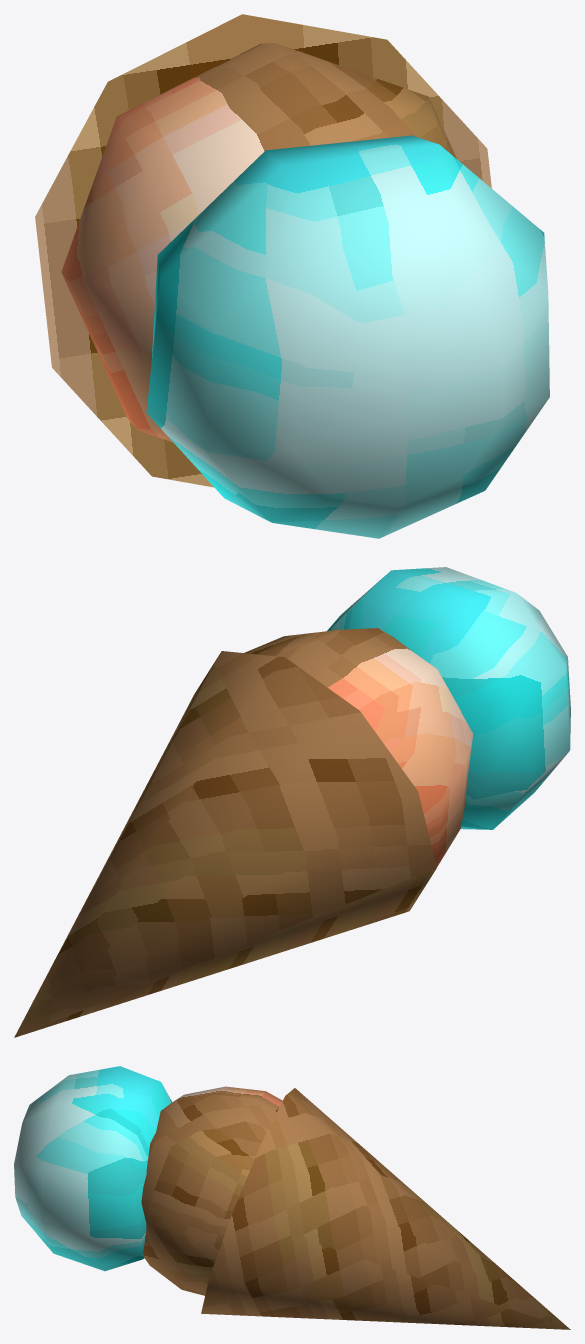
The model's file is icecream04.dae.
The picture shows the model from 3 angles, top to bottom: view 1: azimuth 30°, elevation 25°; view 2: azimuth 150°, elevation 25°; view 3: azimuth 270°, elevation 25°; orthographic projection. The views are drawn at different scales.
Parts seen in each view (by area): view 1: icecream04; view 2: icecream04; view 3: icecream04.
Part boxes in pixels (left/top/right/bottom): icecream04: left=35, top=14, right=549, bottom=538; icecream04: left=14, top=567, right=570, bottom=1037; icecream04: left=14, top=1066, right=570, bottom=1329.
Bounding box in the file's own units: 6.07 × 5.77 × 13.59.
1 material, 1 textured.
